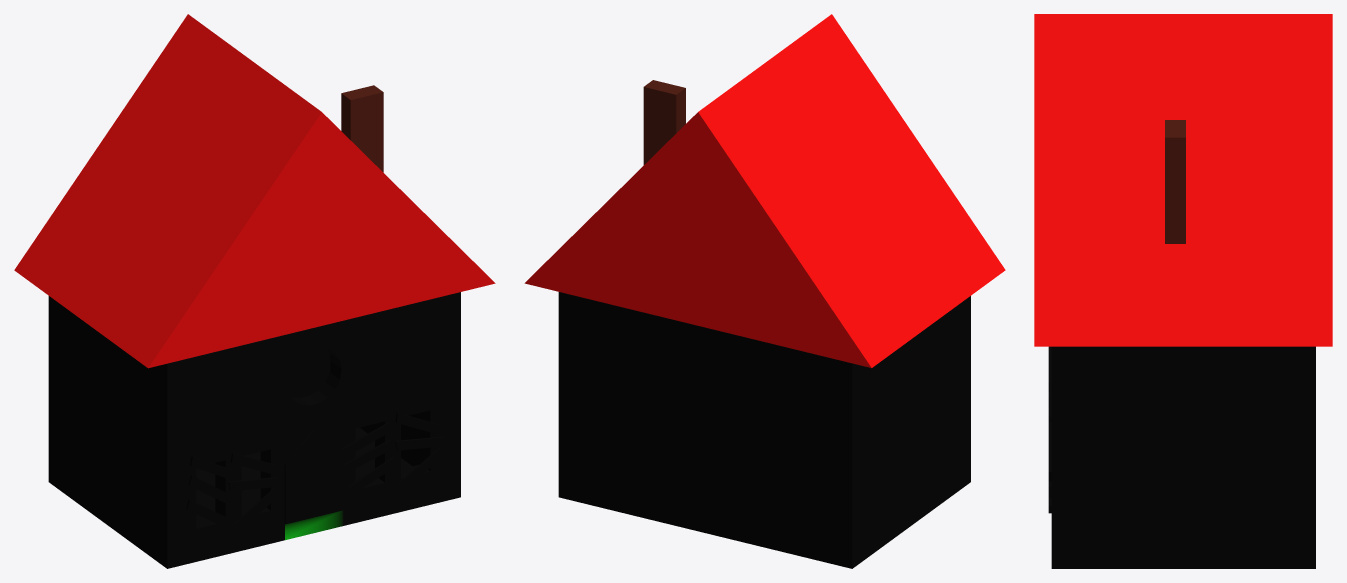
File: Church.FBX
3 views of the same model, side by side, from view 1: azimuth 30°, elevation 25°; view 2: azimuth 150°, elevation 25°; view 3: azimuth 270°, elevation 25° (orthographic). The views are drawn at different scales.
Visible parts, largest first — view 1: Roof, Building, Chimney; view 2: Roof, Building, Chimney; view 3: Roof, Building, Chimney.
Part boxes in pixels (box(x1,y1,x2,y2)): Roof: box(14, 14, 495, 368); Building: box(48, 292, 460, 568); Chimney: box(341, 85, 383, 172); Roof: box(524, 14, 1005, 367); Building: box(558, 292, 970, 568); Chimney: box(643, 80, 685, 164); Roof: box(1034, 14, 1332, 346); Building: box(1048, 346, 1315, 568); Chimney: box(1165, 120, 1185, 243).
Size of the model in its own units: 11.84 by 13.89 by 7.9.
